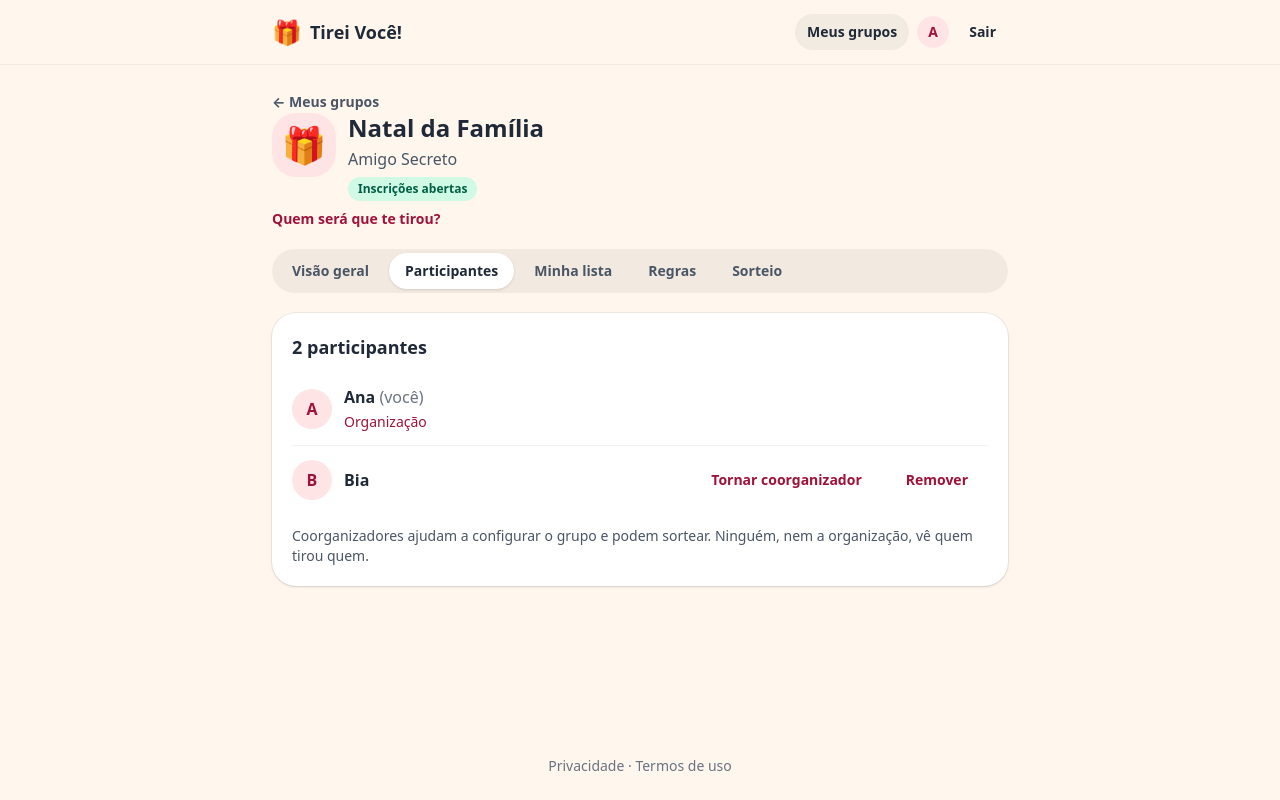
Test: dono promove coorganizador e coorganizador vê a aba Regras
Click the button "Tornar coorganizador" at (787, 480), box [691,458,882,502]
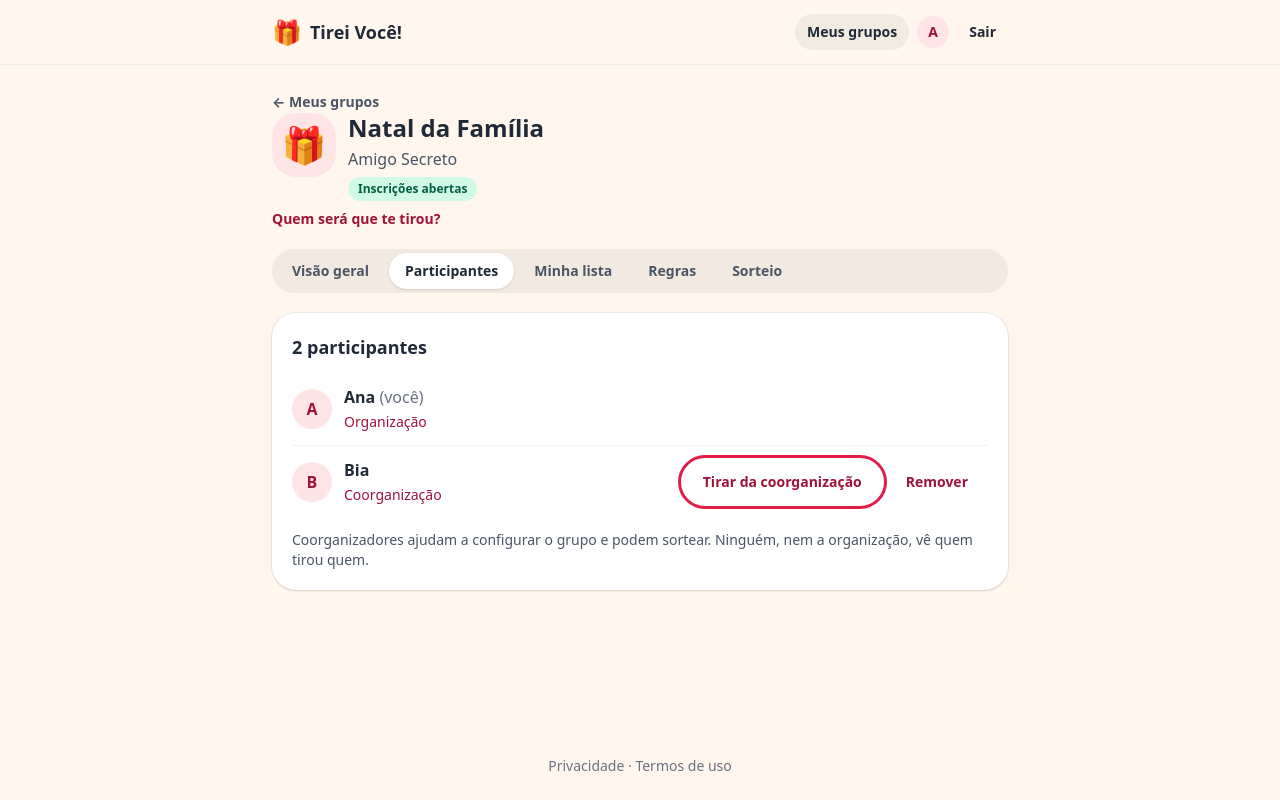
Check: the text "Coorganização" is shown, box [344,485,442,504]
